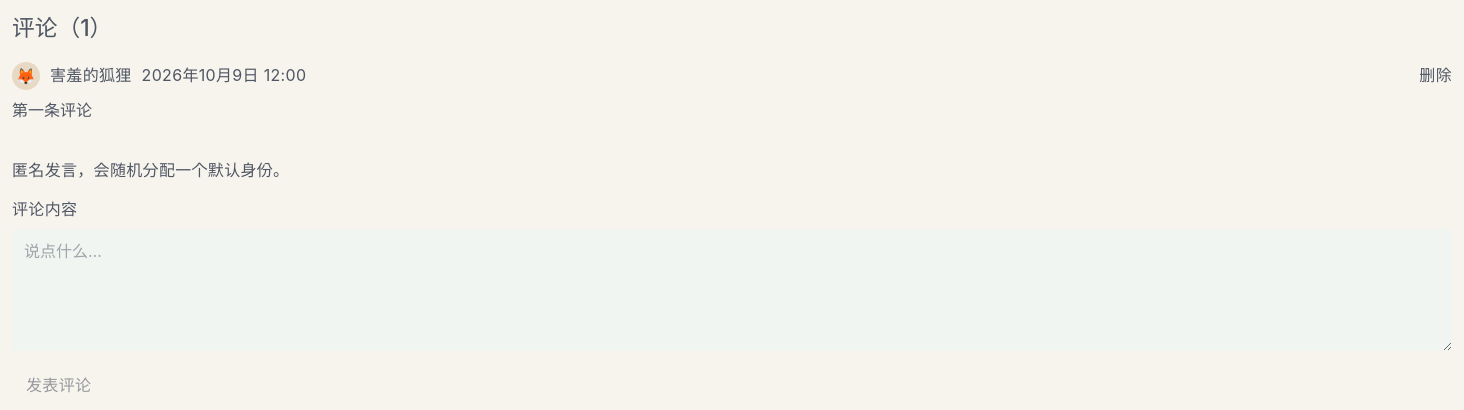
it: post comments › shows delete buttons only with an admin token
Click the button "删除" at point(1436, 76), box [1419,63,1452,88]
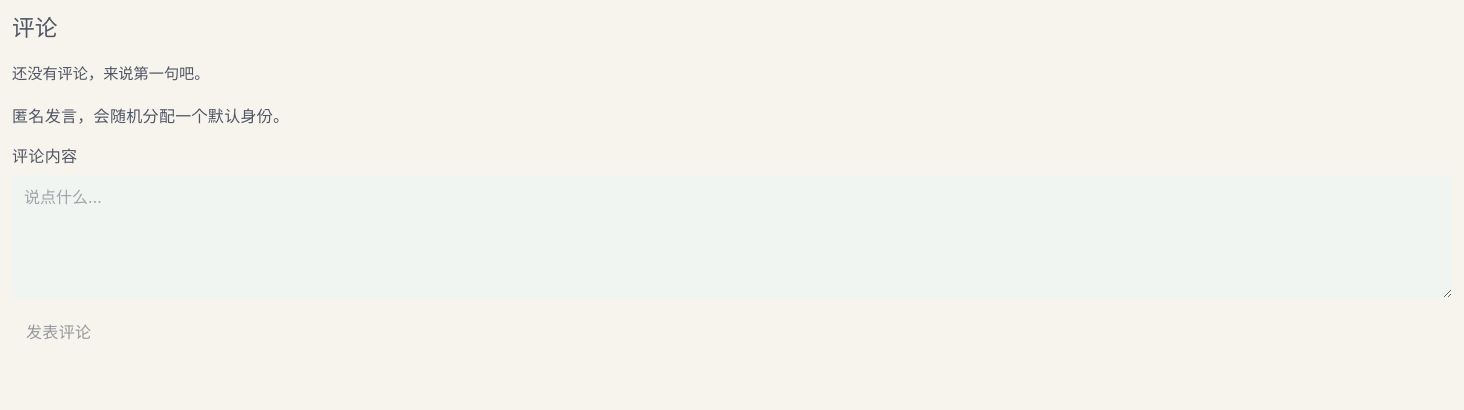
expect the text "第一条评论" is gone: met
